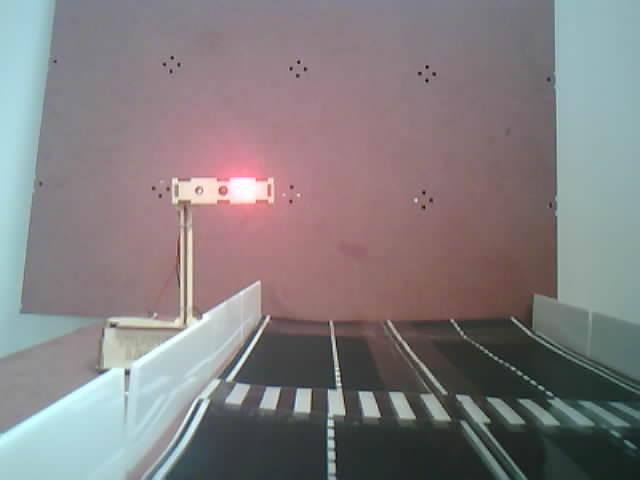crosswalk: (190, 374, 640, 446)
red: (171, 179, 294, 239)
